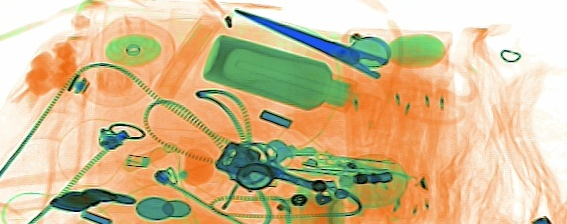scissors: (243, 17, 435, 107)
